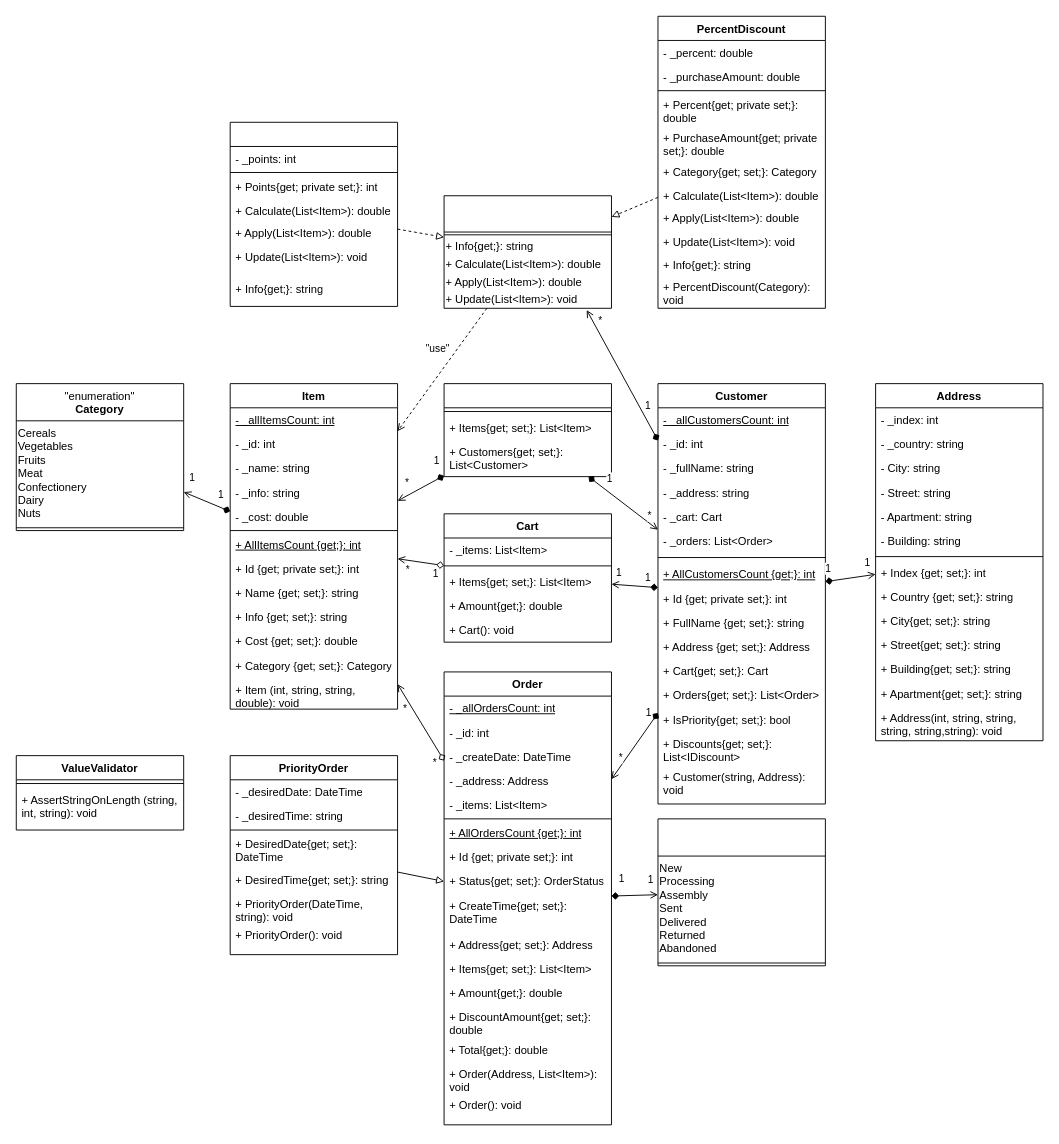
Image size: 1059x1144. Some labels were removed from this diagram. Here are the shapes that lost their labels. From the top down, the box of each, then its label:
(229, 121, 398, 306): PointsDiscount
(443, 195, 611, 308): "interface" IDiscount
(443, 383, 611, 477): Store
(657, 818, 825, 966): "enumeration" OrderStatus
